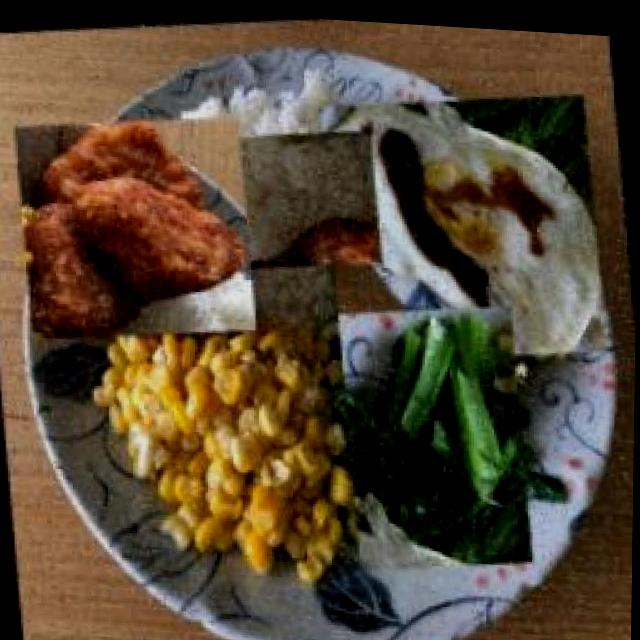fried_eggs: (316, 73, 612, 372)
rice: (162, 93, 364, 302)
triangle_hash_brown: (14, 99, 260, 353)
water_spinach: (334, 289, 537, 573)
